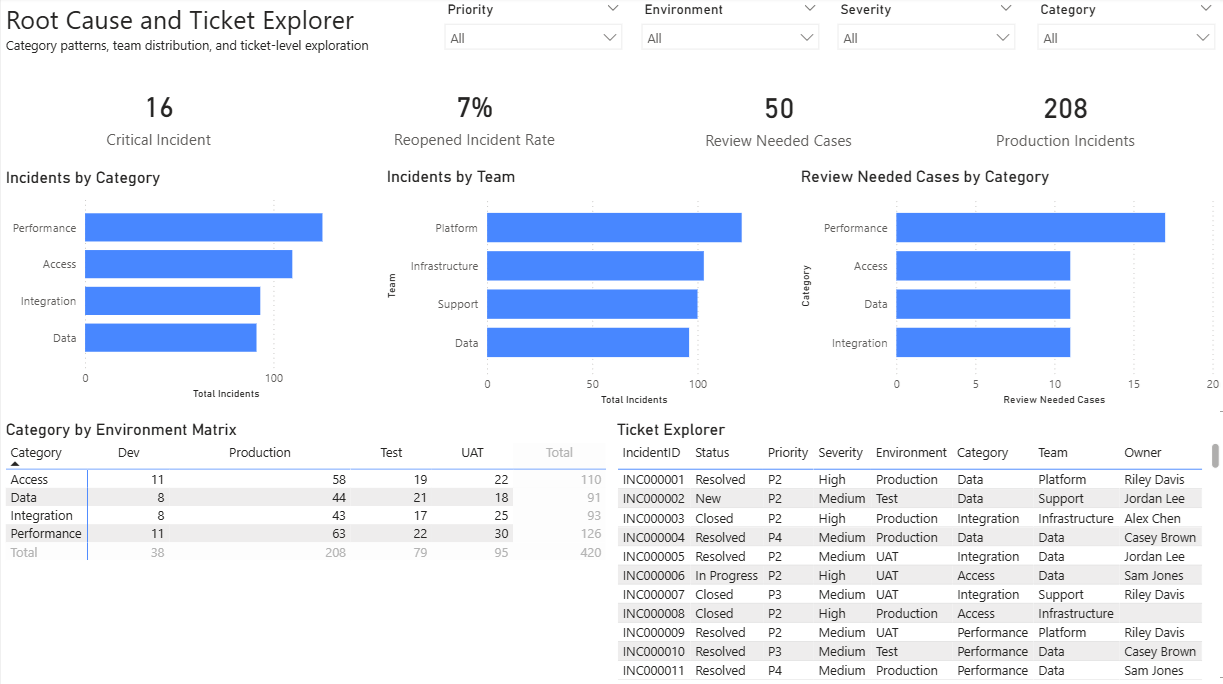

Layout of this report page (visuals, bound fields, positions):
{"tool":"powerbi","page":{"name":"Root Cause and Ticket Explorer","canvas":[1280,720],"ordinal":2},"visuals":[{"type":"clusteredBarChart","title":"Incidents by Category","fields":{"Category":["Incidents.Category"],"Y":["Incidents.Total Incidents"]},"box":[0,179,398.8,247],"z":0},{"type":"clusteredBarChart","title":"Incidents by Team","fields":{"Category":["Incidents.Team"],"Y":["Incidents.Total Incidents"]},"box":[398.8,177.9,433.3,254.3],"z":1000},{"type":"card","fields":{"Values":["Incidents.Critical Incident Count"]},"box":[0,70.1,330,108.8],"z":2000},{"type":"card","fields":{"Values":["Incidents.Review Needed Cases"]},"box":[659.4,70.1,308.7,109.9],"z":3000},{"type":"slicer","fields":{"Values":["Incidents.Environment"]},"box":[660.2,0,205.6,69.5],"z":4000},{"type":"slicer","fields":{"Values":["Incidents.Priority"]},"box":[454.6,0,205.6,69.5],"z":5000},{"type":"slicer","fields":{"Values":["Incidents.Severity"]},"box":[865.8,0,205.6,69.5],"z":6000},{"type":"slicer","fields":{"Values":["Incidents.Category"]},"box":[1074.4,0,205.6,69.5],"z":7000},{"type":"textbox","box":[0,0,452.5,69.5],"z":8000},{"type":"card","fields":{"Values":["Incidents.Reopened Incident Rate"]},"box":[330.7,70.1,329.7,108.8],"z":9000},{"type":"card","fields":{"Values":["Incidents.Production Incidents"]},"box":[948.2,70.1,331.8,109.9],"z":10000},{"type":"clusteredBarChart","title":"Review Needed Cases by Category","fields":{"Category":["Incidents.Category"],"Y":["Incidents.Review Needed Cases"]},"box":[832.1,177.9,447.9,254.3],"z":11000},{"type":"pivotTable","title":"Category by Environment Matrix","fields":{"Rows":["Incidents.Category"],"Columns":["Incidents.Environment"],"Values":["Incidents.Total Incidents"]},"box":[0,442.7,640.5,277.4],"z":12000},{"type":"tableEx","title":"Ticket Explorer","fields":{"Values":["Incidents.IncidentID","Incidents.Status","Incidents.Priority","Incidents.Severity","Incidents.Environment","Incidents.Category","Incidents.Team","Incidents.Owner"]},"box":[639.5,442.7,640.5,277.4],"z":13000}]}

Visuals, with their boxes in screenshot pixels (x1, y1, x2, y2), scaled from the page's 1280x720 canvas onto the 1223x684 screenshot:
"Incidents by Category" clusteredBarChart: rect(0, 170, 381, 405)
"Incidents by Team" clusteredBarChart: rect(381, 169, 795, 411)
card - Incidents.Critical Incident Count: rect(0, 67, 315, 170)
card - Incidents.Review Needed Cases: rect(630, 67, 925, 171)
slicer - Incidents.Environment: rect(631, 0, 827, 66)
slicer - Incidents.Priority: rect(434, 0, 631, 66)
slicer - Incidents.Severity: rect(827, 0, 1024, 66)
slicer - Incidents.Category: rect(1027, 0, 1222, 66)
textbox: rect(0, 0, 432, 66)
card - Incidents.Reopened Incident Rate: rect(316, 67, 631, 170)
card - Incidents.Production Incidents: rect(906, 67, 1222, 171)
"Review Needed Cases by Category" clusteredBarChart: rect(795, 169, 1222, 411)
"Category by Environment Matrix" pivotTable: rect(0, 421, 612, 683)
"Ticket Explorer" tableEx: rect(611, 421, 1222, 683)
